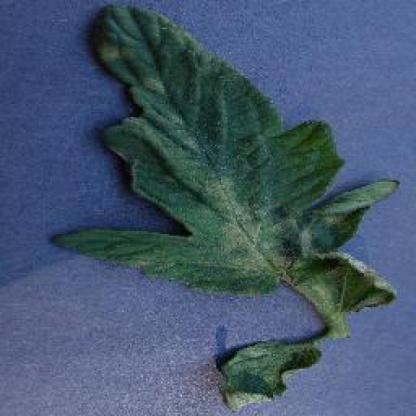Tomato_Leaf_Mold: (56, 6, 399, 308)
